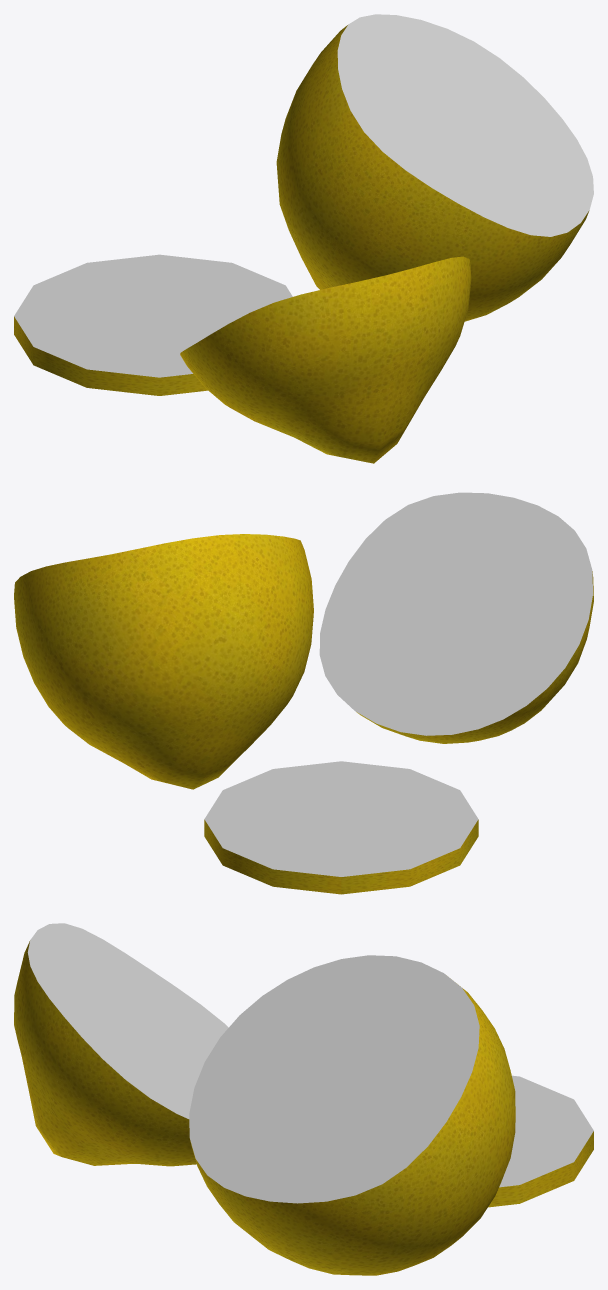
The model's file is LemonSlices 1.fbx.
The picture shows the model from 3 angles, top to bottom: view 1: azimuth 30°, elevation 25°; view 2: azimuth 150°, elevation 25°; view 3: azimuth 270°, elevation 25°; orthographic projection. The views are drawn at different scales.
Visible parts, largest first — view 1: Cylinder; view 2: Cylinder; view 3: Cylinder.
Part boxes in pixels (x1,y1,x2,y2): Cylinder: (14,14,593,463); Cylinder: (14,492,593,894); Cylinder: (14,923,593,1275).
Size of the model in its own units: 65.72 by 34.11 by 64.95.
